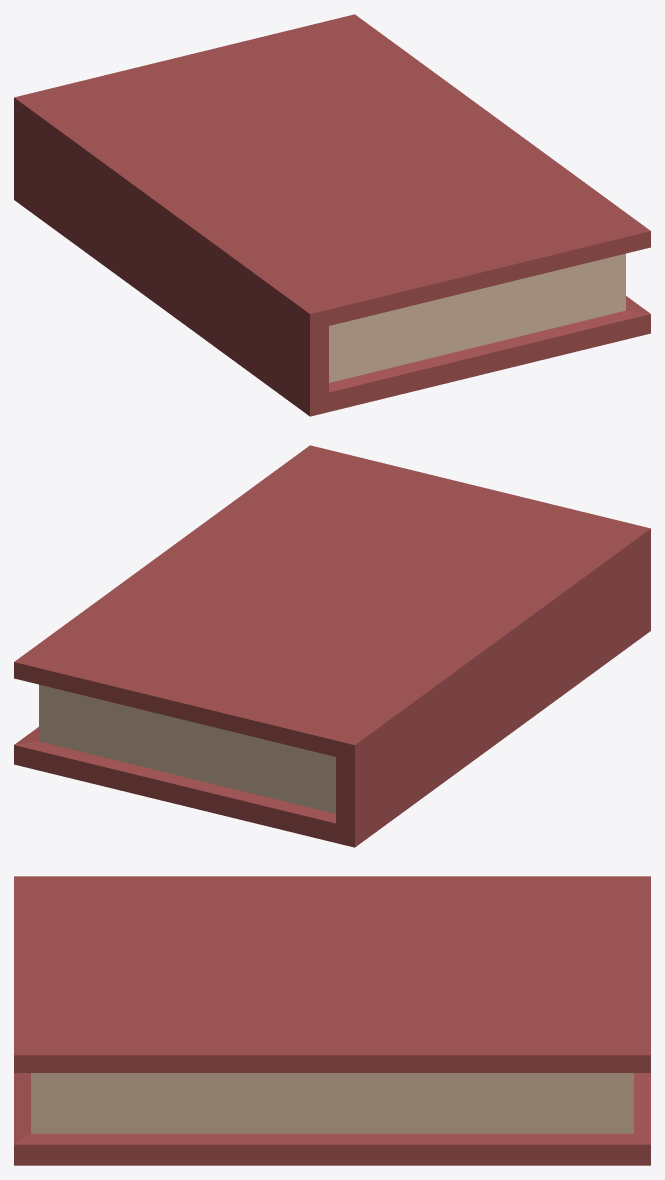
The model's file is Bookmaterialscolored.fbx.
The picture shows the model from 3 angles, top to bottom: view 1: azimuth 30°, elevation 25°; view 2: azimuth 150°, elevation 25°; view 3: azimuth 270°, elevation 25°; orthographic projection. The views are drawn at different scales.
Parts seen in each view (by area): view 1: pCube1; view 2: pCube1; view 3: pCube1.
Boxes of the visible parts, left/top/right/bottom form: pCube1: left=14, top=14, right=650, bottom=416; pCube1: left=14, top=445, right=650, bottom=847; pCube1: left=14, top=876, right=650, bottom=1165.
Size of the model in its own units: 3.75 by 1.08 by 5.64.
